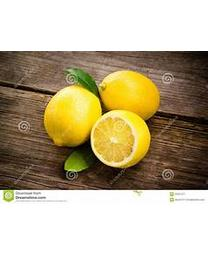lemon: (44, 87, 103, 148), (93, 111, 152, 168), (99, 69, 159, 121)
